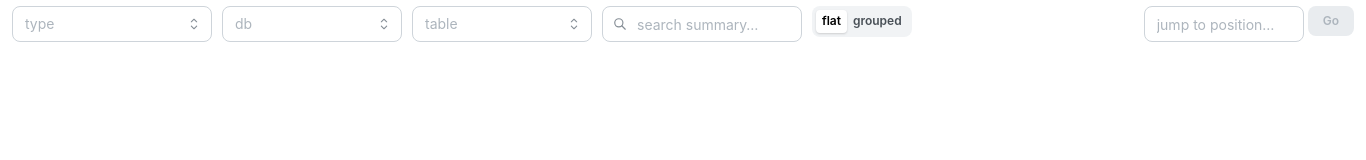
it: FilterBar › jump input: invalid input shows error message
The width and height of the screenshot is (1366, 160).
Type "not-a-number" into the field named "jump to byte position". click: (1224, 24)
box: left=1144, top=6, right=1304, bottom=42
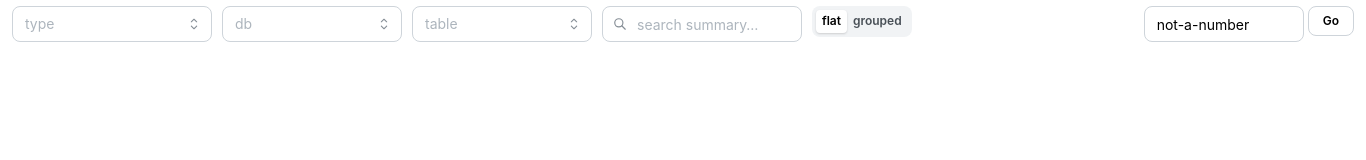
Click the button with aria-label "go to position". click: (1331, 21)
box: left=1308, top=6, right=1354, bottom=36
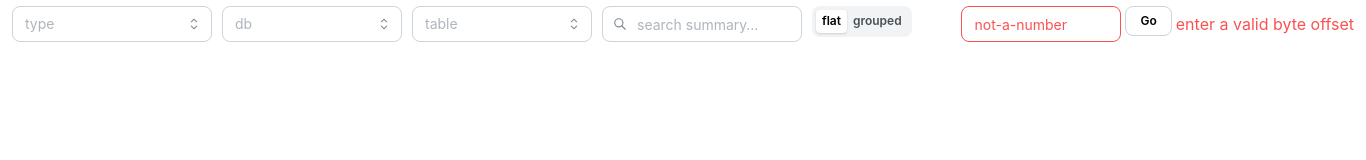
Expected: the text "enter a valid byte offset" is shown, left=1176, top=12, right=1354, bottom=36
